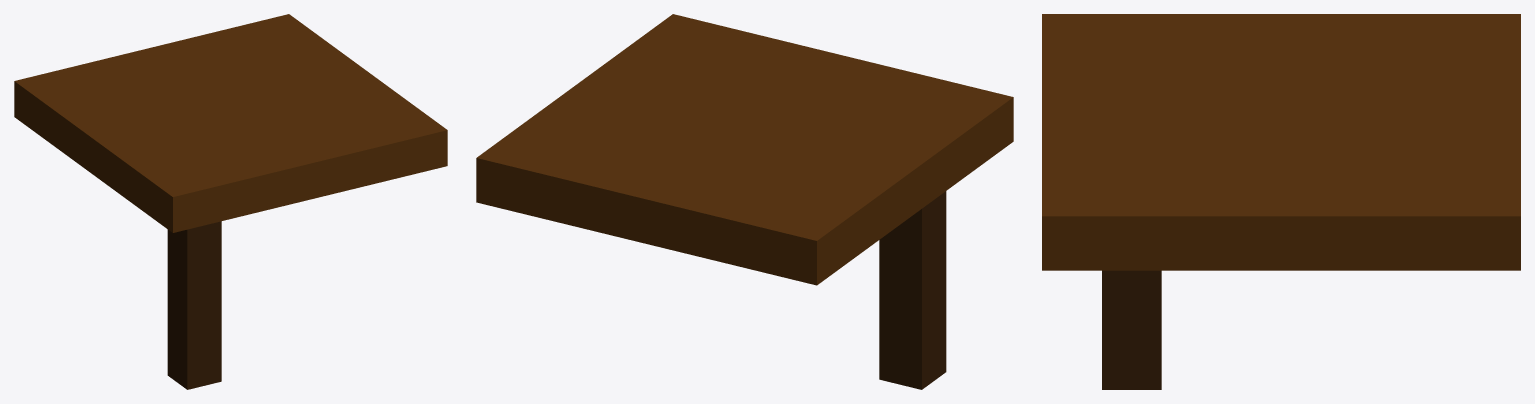
Rendered from Table1_Big.fbx.
3 renders of one model, left to right at view 1: azimuth 30°, elevation 25°; view 2: azimuth 150°, elevation 25°; view 3: azimuth 270°, elevation 25°, orthographic. The views are drawn at different scales.
Visible parts, largest first — view 1: Table1_Big; view 2: Table1_Big; view 3: Table1_Big.
Boxes of the visible parts, <box> form: Table1_Big: <box>14,14,447,389</box>; Table1_Big: <box>476,14,1013,389</box>; Table1_Big: <box>1042,14,1520,389</box>.
Size of the model in its own units: 800 by 600 by 800.
